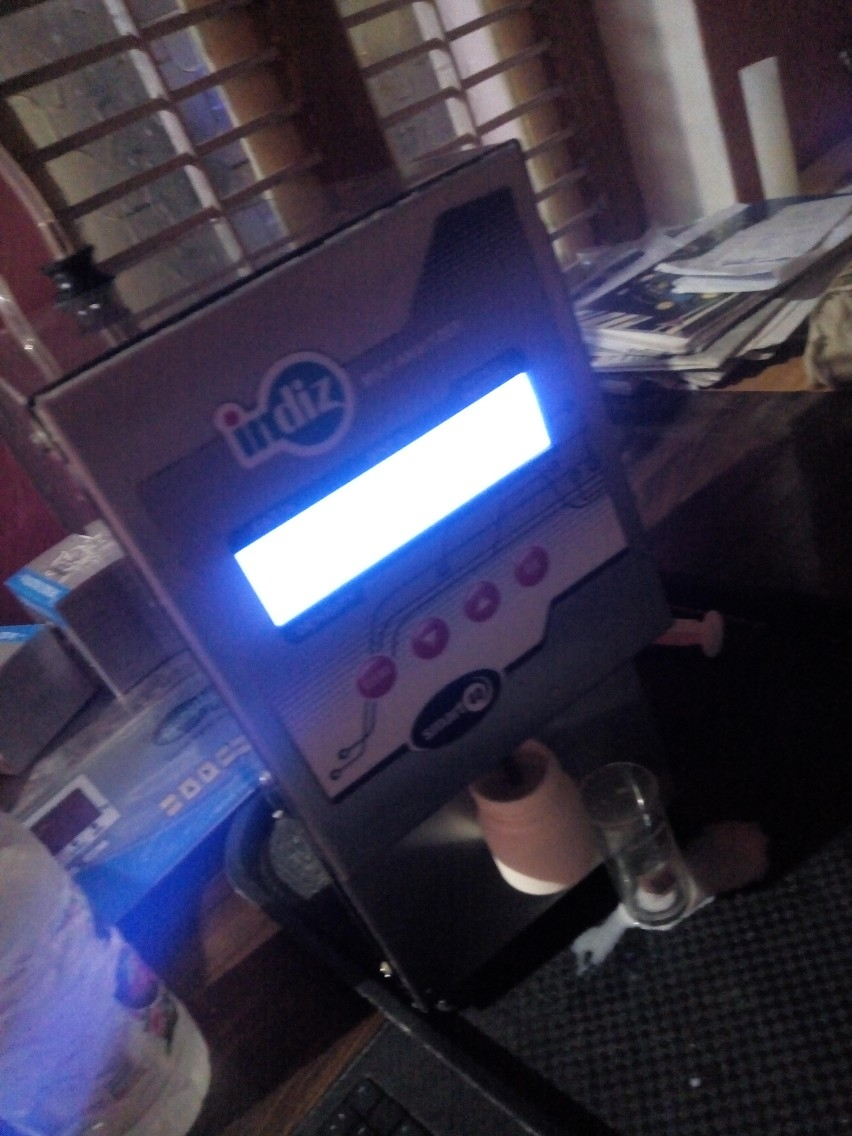lcd: (157, 359, 640, 628)
